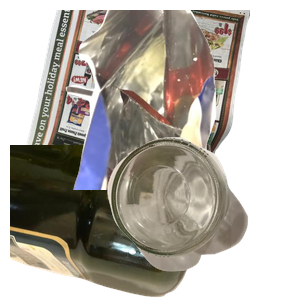glass: (105, 135, 300, 300)
paper: (14, 10, 254, 190)
plastic: (10, 145, 213, 300)
trash: (63, 10, 300, 190)
